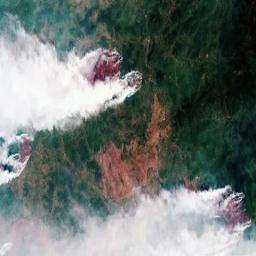Heavy smoke: (0, 8, 145, 184), (0, 183, 255, 256)
